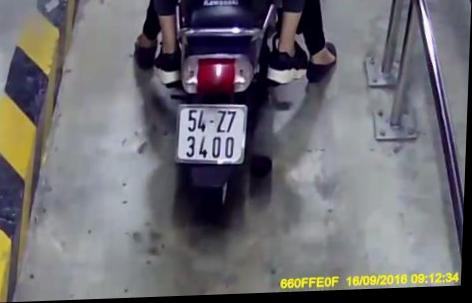License_Plate: (167, 98, 256, 174)
